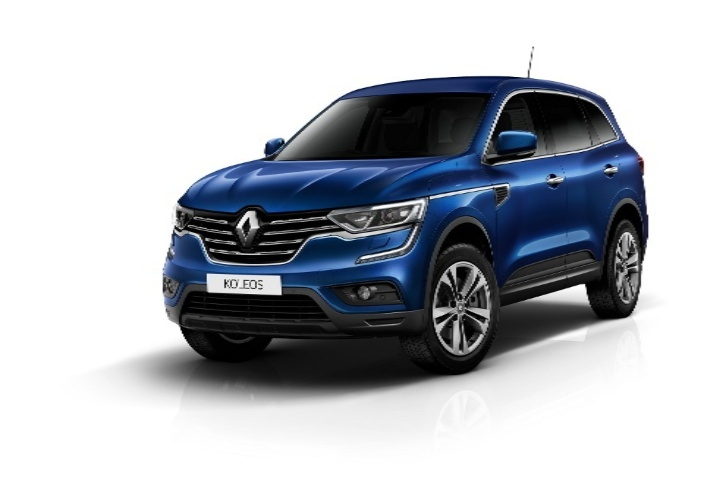camper: (107, 59, 678, 403)
